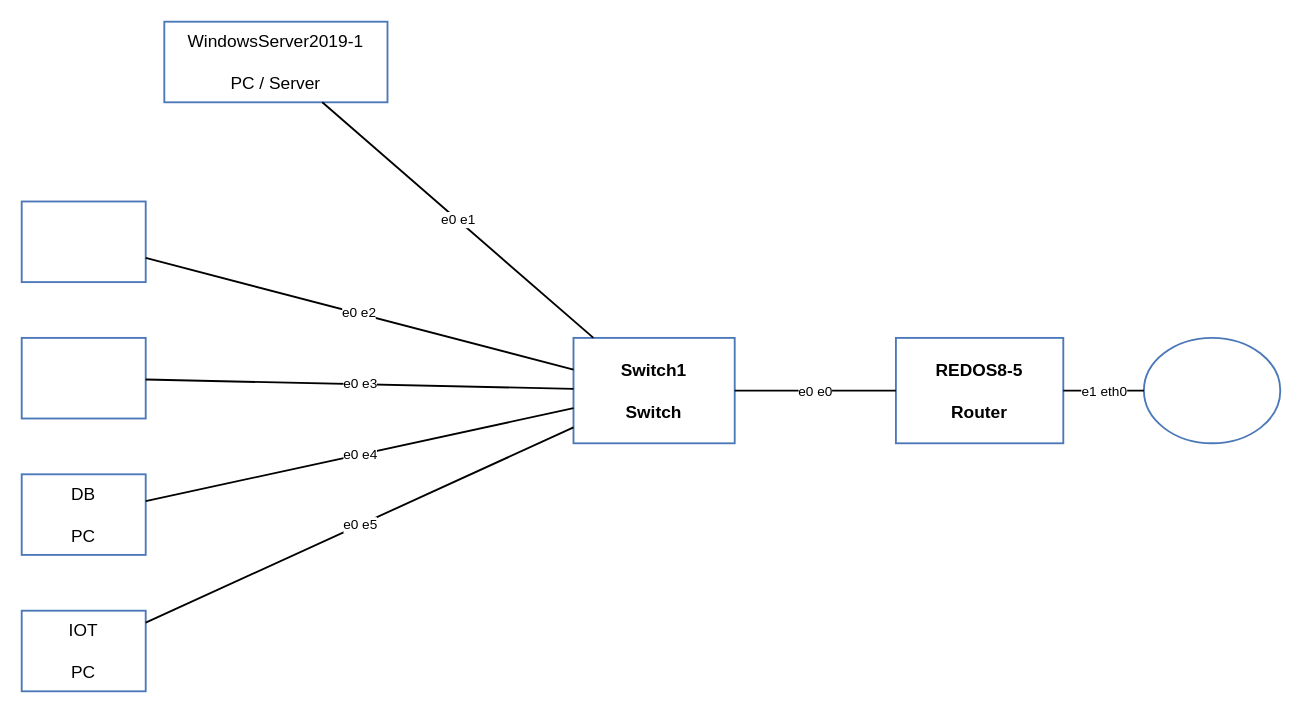
Image size: 1303x714. Some labels were removed from this diagram. Here are the shapes that lost their labels. From the top down, the centre of each, then its label:
At [83,241]: "CTRL PC".
At [83,377]: "MON PC".
At [1211,390]: "Cloud1 Cloud".
